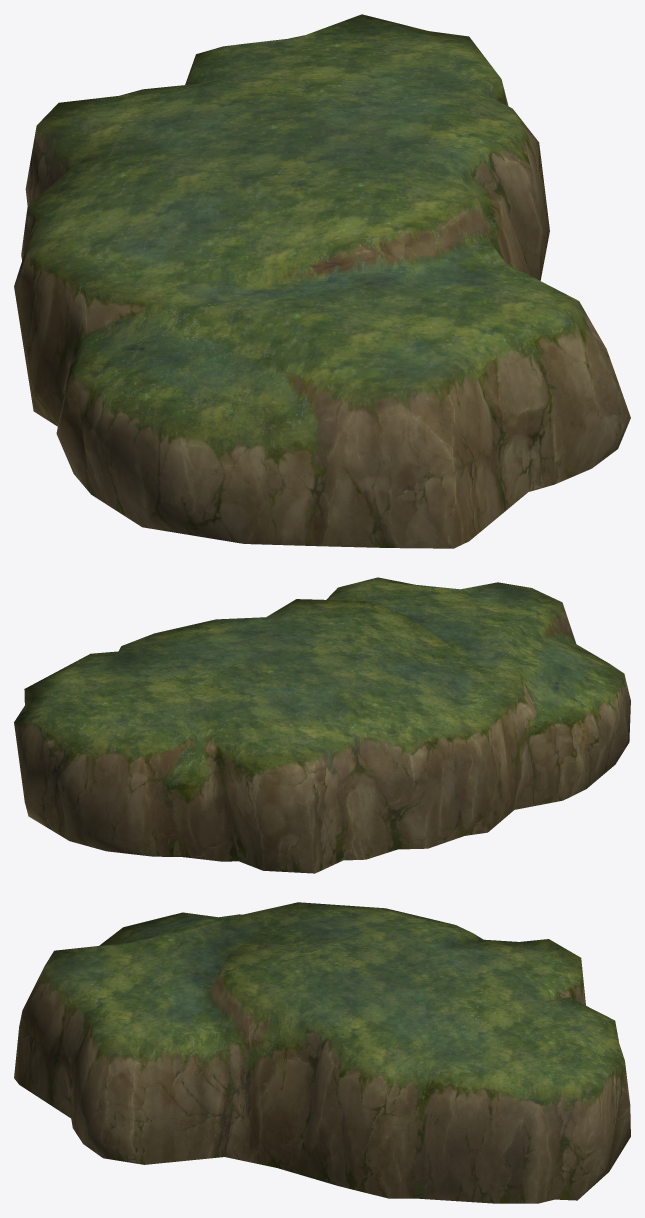
File: Cliff3.fbx
3 renders of one model, top to bottom at view 1: azimuth 30°, elevation 25°; view 2: azimuth 150°, elevation 25°; view 3: azimuth 270°, elevation 25°, orthographic. The views are drawn at different scales.
Visible parts, largest first — view 1: SM_d_109_Cliff_03a; view 2: SM_d_109_Cliff_03a; view 3: SM_d_109_Cliff_03a.
Boxes of the visible parts, left/top/right/bottom form: SM_d_109_Cliff_03a: left=14, top=14, right=630, bottom=548; SM_d_109_Cliff_03a: left=14, top=577, right=630, bottom=873; SM_d_109_Cliff_03a: left=14, top=902, right=630, bottom=1203.
Size of the model in its own units: 1630 by 503 by 1954.
